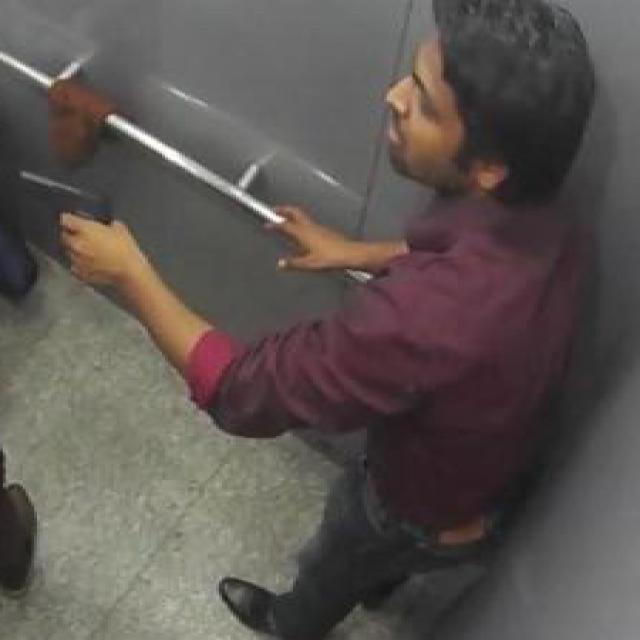weapon: (17, 166, 111, 257)
